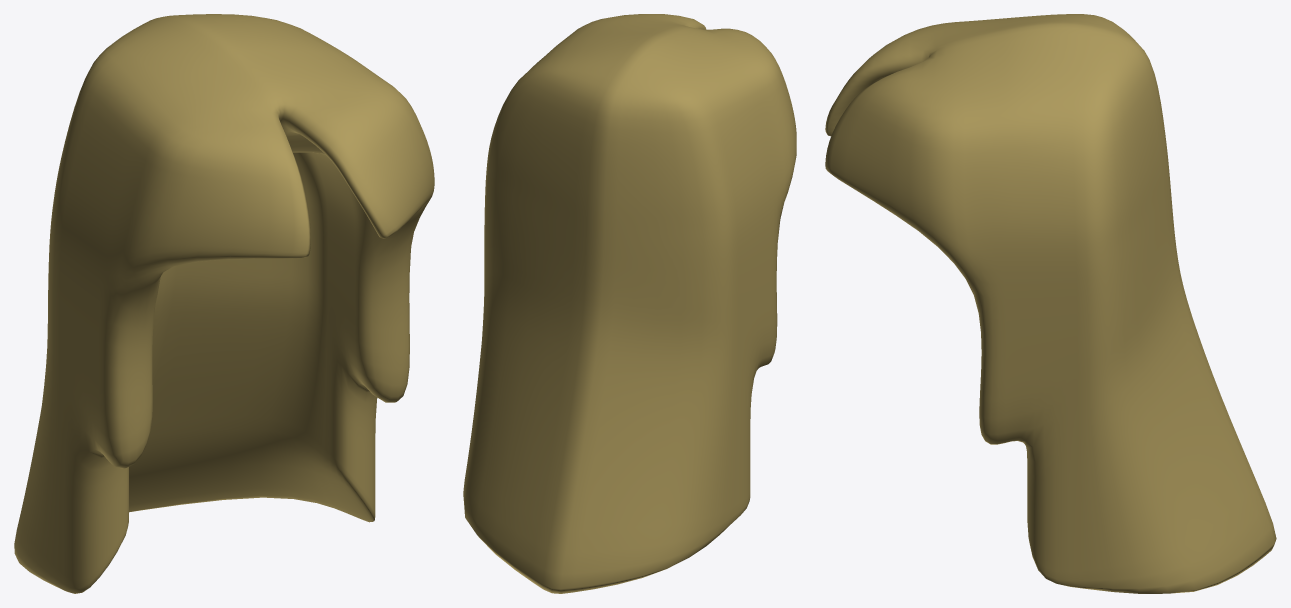
File: Female_Hair1.fbx
The picture shows the model from 3 angles, left to right: view 1: azimuth 30°, elevation 25°; view 2: azimuth 150°, elevation 25°; view 3: azimuth 270°, elevation 25°; orthographic projection. The views are drawn at different scales.
Parts seen in each view (by area): view 1: Female_Hair_Long_Smooth; view 2: Female_Hair_Long_Smooth; view 3: Female_Hair_Long_Smooth.
Part boxes in pixels (<box>): Female_Hair_Long_Smooth: <box>14,14,434,593</box>; Female_Hair_Long_Smooth: <box>463,14,796,593</box>; Female_Hair_Long_Smooth: <box>825,14,1276,593</box>.
Size of the model in its own units: 1.6 by 2.94 by 2.28.
